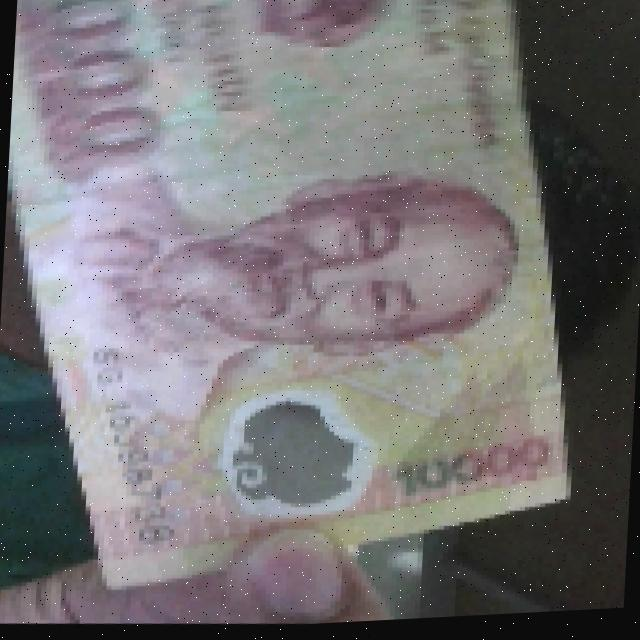10 000 VND: (0, 0, 606, 623)
